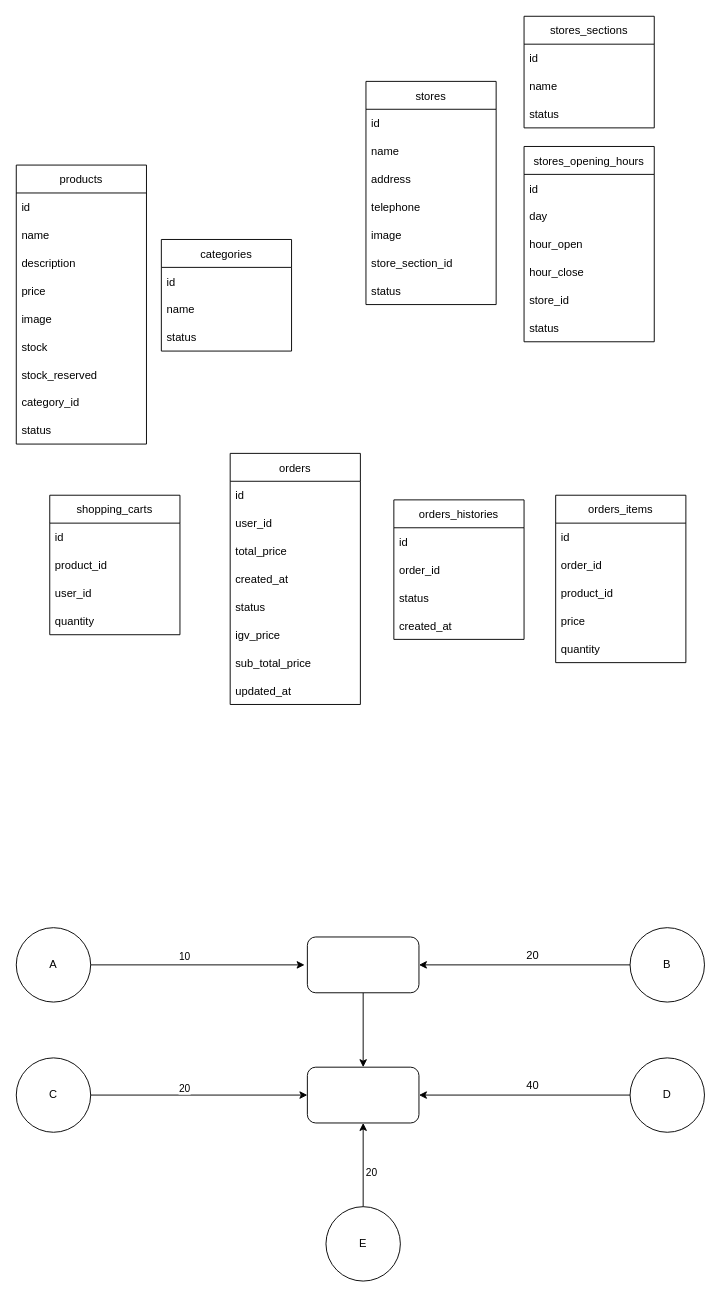
Image size: 721x1297. Some labels were removed from this diagram. Here are the shapes that lost their labels. From the top down, the centre of each, then its label:
(x=362, y=964): PRODUCTO_1 Stock 50
(x=362, y=1094): PRODUCTO_1 Stock 20
